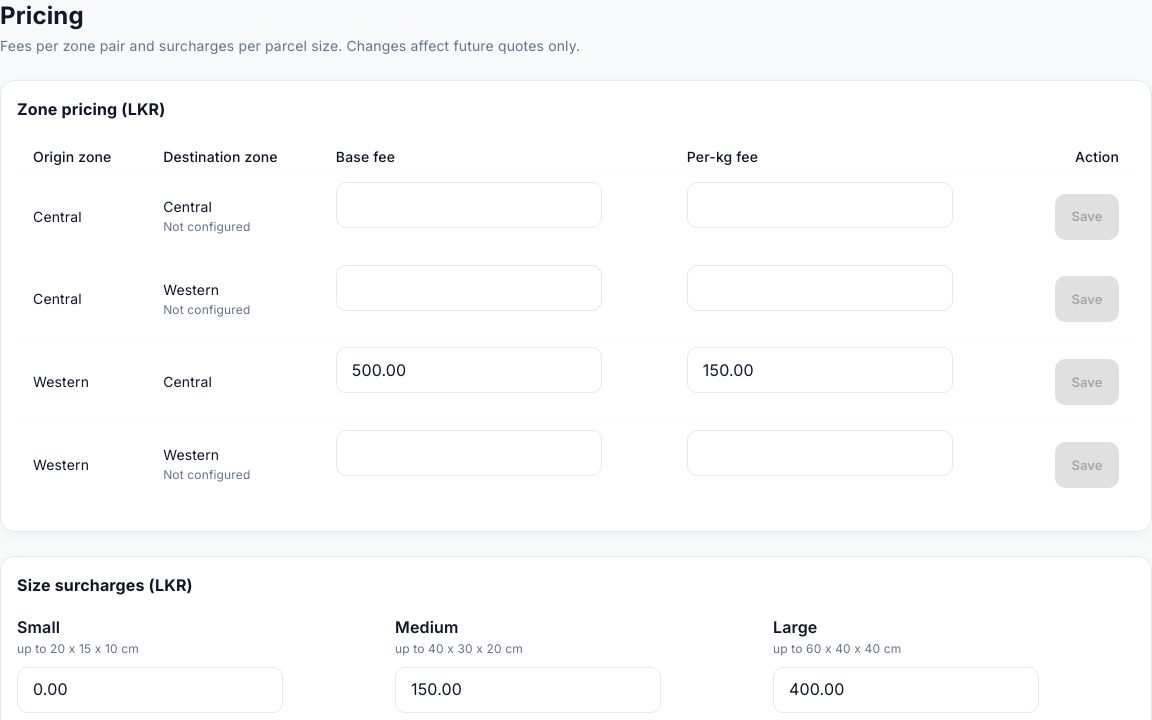
Scenario: TST-040 Member #5 admin pricing page (FR-PRC-007) › asks for confirmation, then sends both fees for the pair and shows a success message
Replace the text in the field named "Base fee Western to Central" with "600" at (469, 370), box [336, 347, 602, 393]
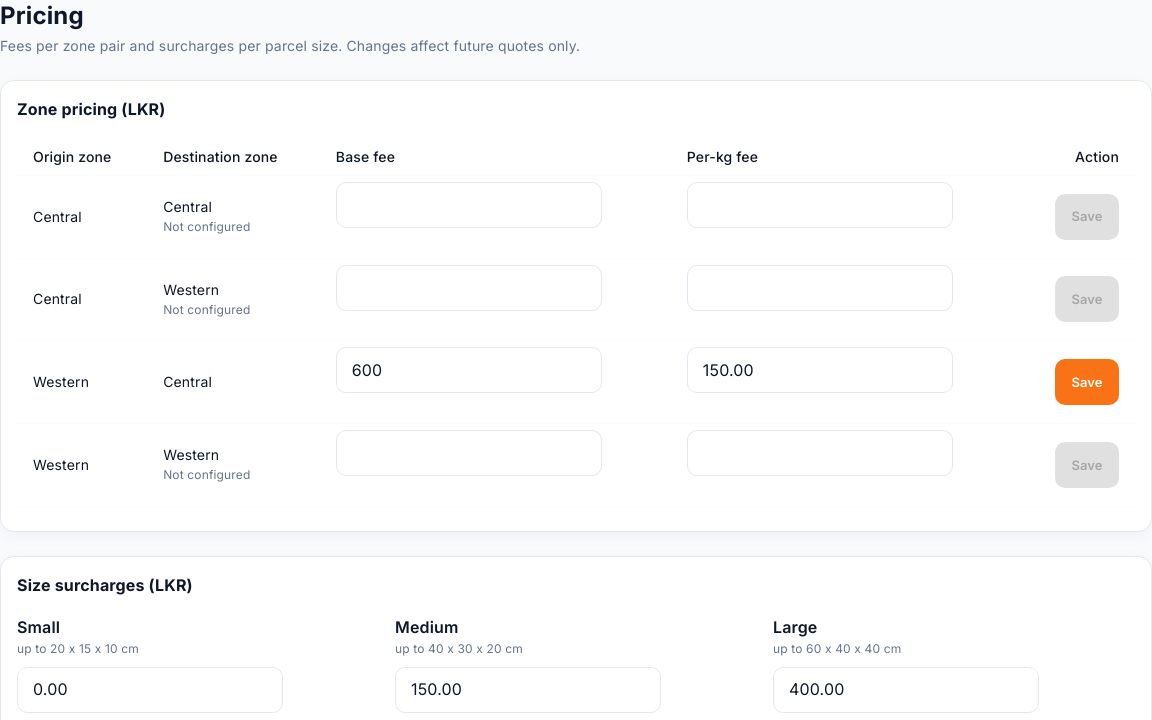
Replace the text in the field named "Per-kg fee Western to Central" with "200.5" at (820, 370), box [687, 347, 953, 393]
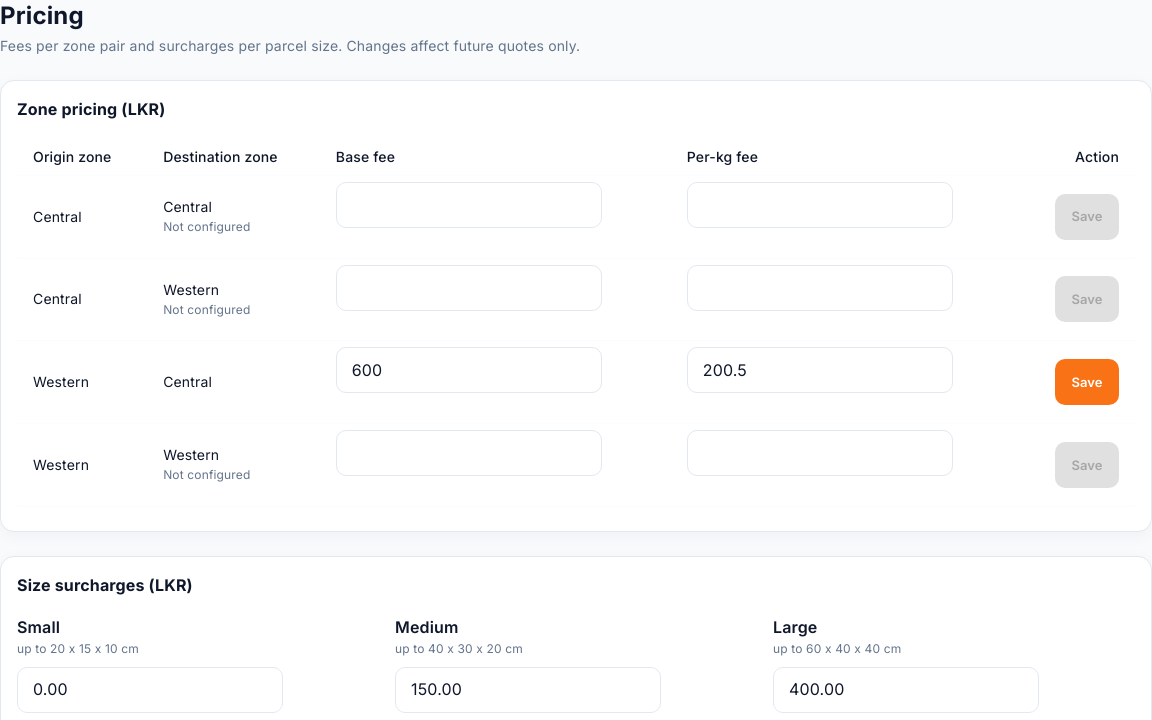
Click the button with aria-label "Save Western to Central" at (1087, 382), box [1055, 359, 1119, 405]
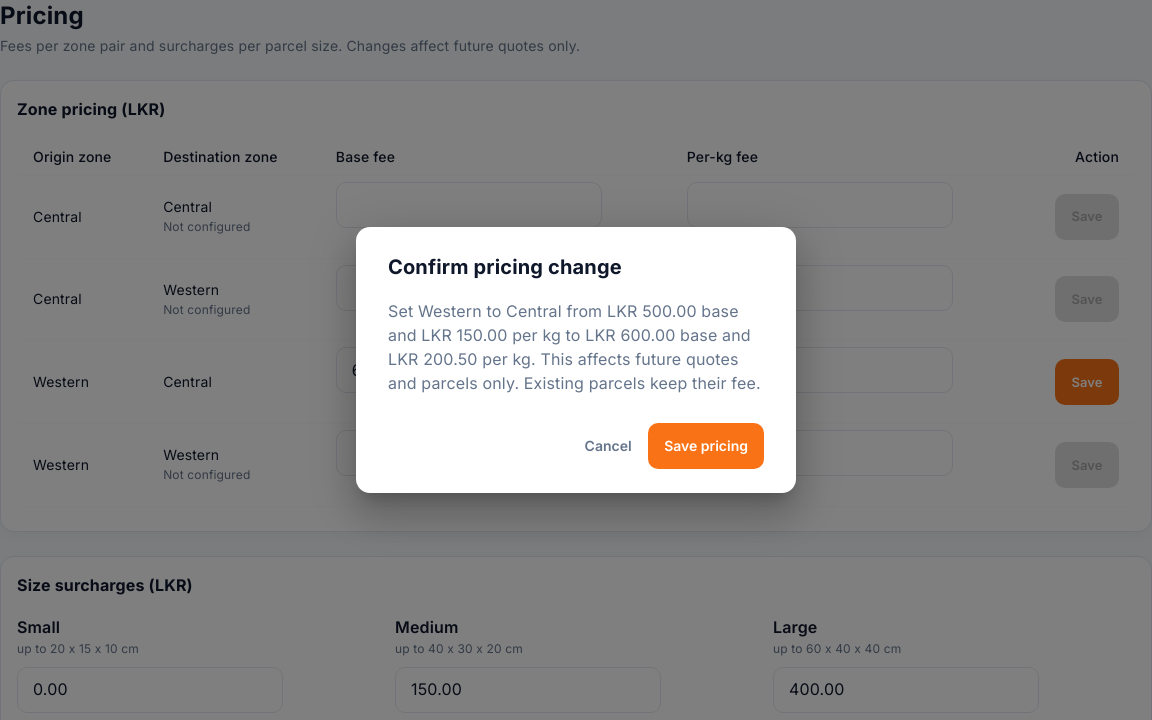
Check: the text "future quotes and parcels only" is shown, box [388, 301, 761, 393]
Click the button "Save pricing" at (706, 446), box [648, 423, 764, 469]
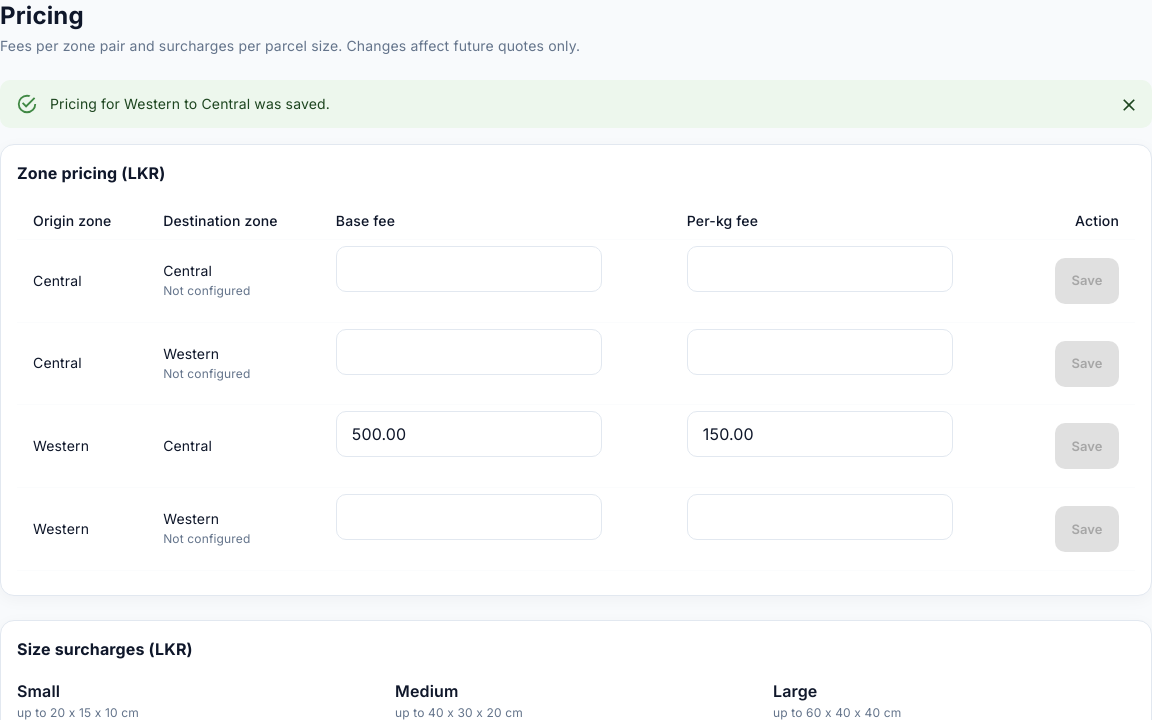
Check: the text "Pricing for Western to Central was saved." is shown, box [50, 95, 330, 112]
